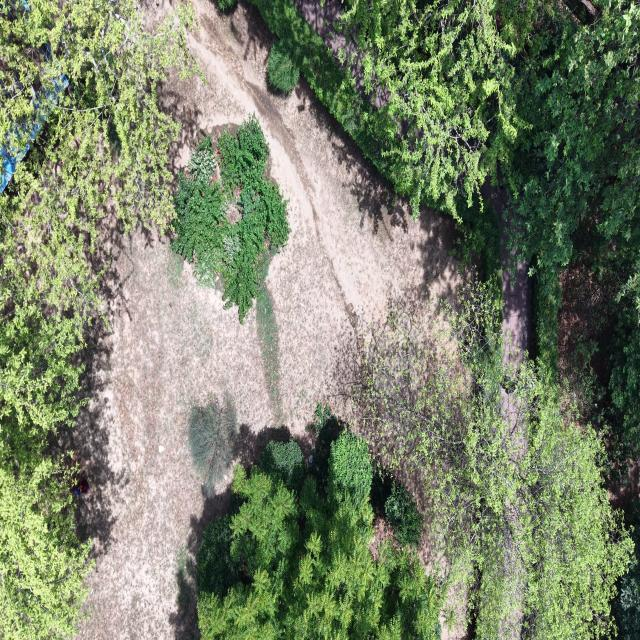DRY_AREA: (70, 0, 459, 639), (164, 0, 458, 397), (481, 173, 532, 374), (481, 172, 532, 365), (481, 173, 532, 366), (482, 174, 531, 366), (558, 261, 618, 389), (558, 261, 618, 385), (295, 0, 365, 95), (558, 262, 615, 378), (500, 218, 532, 365), (295, 0, 358, 63), (609, 460, 639, 513)
VEGETATION_TREE: (252, 0, 639, 638), (253, 0, 639, 482), (254, 0, 639, 444), (336, 0, 639, 463), (0, 0, 195, 638), (255, 0, 639, 270), (360, 286, 632, 638), (0, 0, 194, 470), (334, 0, 639, 269), (254, 0, 561, 219), (506, 2, 639, 482), (254, 0, 537, 215), (511, 3, 639, 466), (505, 0, 639, 422), (197, 431, 439, 639), (335, 0, 529, 215), (198, 409, 374, 637), (508, 0, 639, 269), (252, 0, 403, 185), (172, 115, 289, 322), (553, 226, 639, 483), (0, 458, 91, 639), (172, 137, 230, 284), (348, 433, 423, 545), (599, 302, 639, 465), (453, 195, 502, 298), (188, 397, 238, 495), (371, 458, 424, 545), (256, 251, 281, 415), (196, 515, 239, 596), (614, 500, 639, 639), (327, 431, 372, 504), (385, 482, 422, 544), (260, 440, 304, 489), (614, 562, 639, 639), (268, 41, 299, 94), (188, 137, 216, 184), (217, 0, 236, 11)
